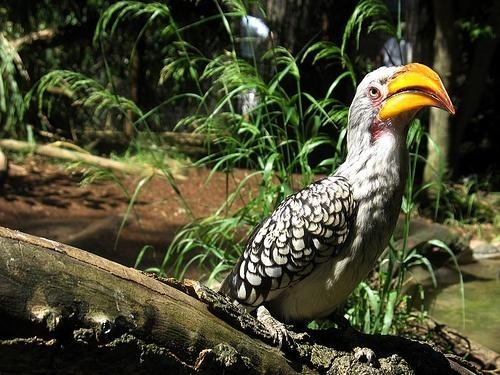bird: (220, 62, 458, 347)
